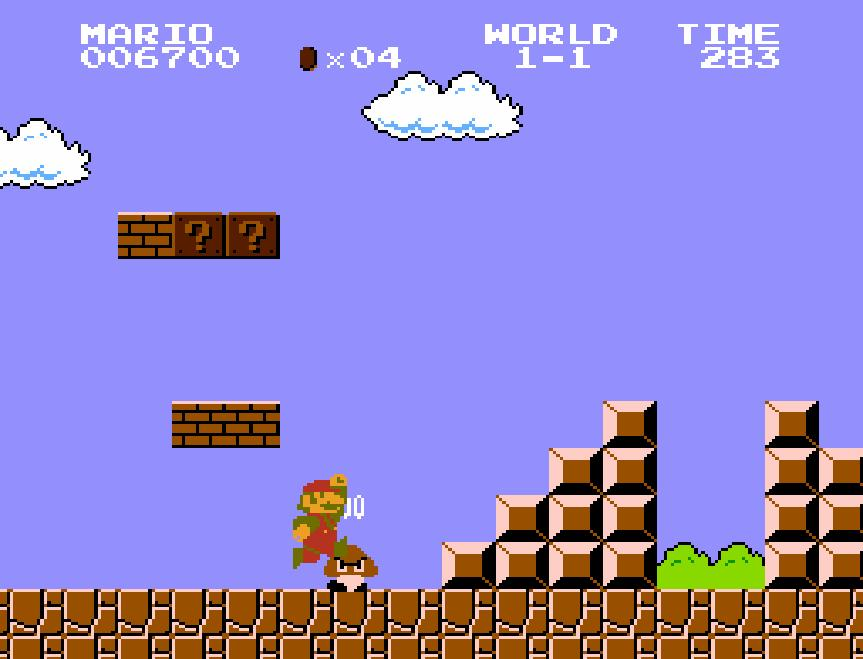big_mario: (291, 472, 349, 570)
